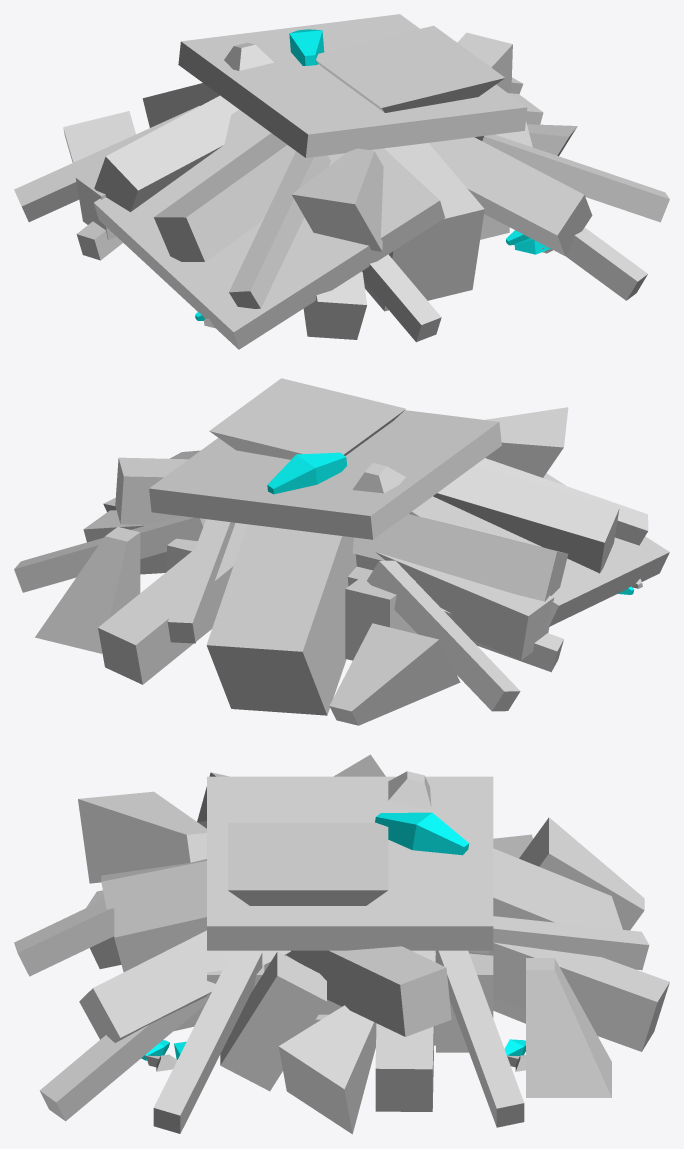
The model's file is middle_building_2_break.fbx.
3 views of the same model, one above another, from view 1: azimuth 30°, elevation 25°; view 2: azimuth 150°, elevation 25°; view 3: azimuth 270°, elevation 25° (orthographic). The views are drawn at different scales.
Parts seen in each view (by area): view 1: pCube95, pCube80, pCube101, pCube89, pCube86, pCube81, pCube88, pCube99, pCube94, pCube79, pCube76, pCube93 (+10 smaller); view 2: pCube95, pCube92, pCube101, pCube89, pCube88, pCube98, pCube87, pCube85, pCube97, pCube80, pCube93, pCube78 (+10 smaller); view 3: pCube95, pCube101, pCube83, pCube87, pCube97, pCube99, pCube86, pCube96, pCube100, pCube79, pCube92, pCube78 (+13 smaller).
Part boxes in pixels (bbox=[...]): pCube95: bbox=[178, 14, 527, 157]; pCube80: bbox=[94, 109, 444, 349]; pCube101: bbox=[316, 25, 504, 112]; pCube89: bbox=[154, 133, 295, 261]; pCube86: bbox=[429, 137, 592, 256]; pCube81: bbox=[364, 143, 484, 311]; pCube88: bbox=[94, 95, 238, 211]; pCube99: bbox=[291, 148, 383, 251]; pCube94: bbox=[229, 151, 330, 308]; pCube79: bbox=[476, 134, 669, 222]; pCube76: bbox=[362, 254, 441, 342]; pCube93: bbox=[14, 106, 199, 221]; pCube95: bbox=[149, 410, 501, 539]; pCube92: bbox=[206, 524, 356, 715]; pCube101: bbox=[209, 378, 405, 459]; pCube89: bbox=[433, 465, 619, 573]; pCube88: bbox=[352, 514, 568, 601]; pCube98: bbox=[329, 623, 460, 725]; pCube87: bbox=[98, 523, 247, 684]; pCube85: bbox=[355, 552, 554, 660]; pCube97: bbox=[35, 527, 140, 653]; pCube80: bbox=[409, 473, 669, 626]; pCube93: bbox=[367, 560, 520, 711]; pCube78: bbox=[14, 516, 205, 592]; pCube95: bbox=[207, 776, 493, 950]; pCube101: bbox=[228, 822, 388, 905]; pCube83: bbox=[286, 946, 451, 1036]; pCube87: bbox=[469, 942, 669, 1051]; pCube97: bbox=[526, 958, 611, 1097]; pCube99: bbox=[78, 791, 206, 883]; pCube86: bbox=[79, 930, 290, 1042]; pCube96: bbox=[278, 1005, 376, 1134]; pCube100: bbox=[220, 951, 326, 1091]; pCube79: bbox=[153, 950, 262, 1133]; pCube92: bbox=[493, 848, 622, 1023]; pCube78: bbox=[436, 950, 524, 1127].
Bounding box in the file's own units: 45.24 × 17.71 × 45.86.
